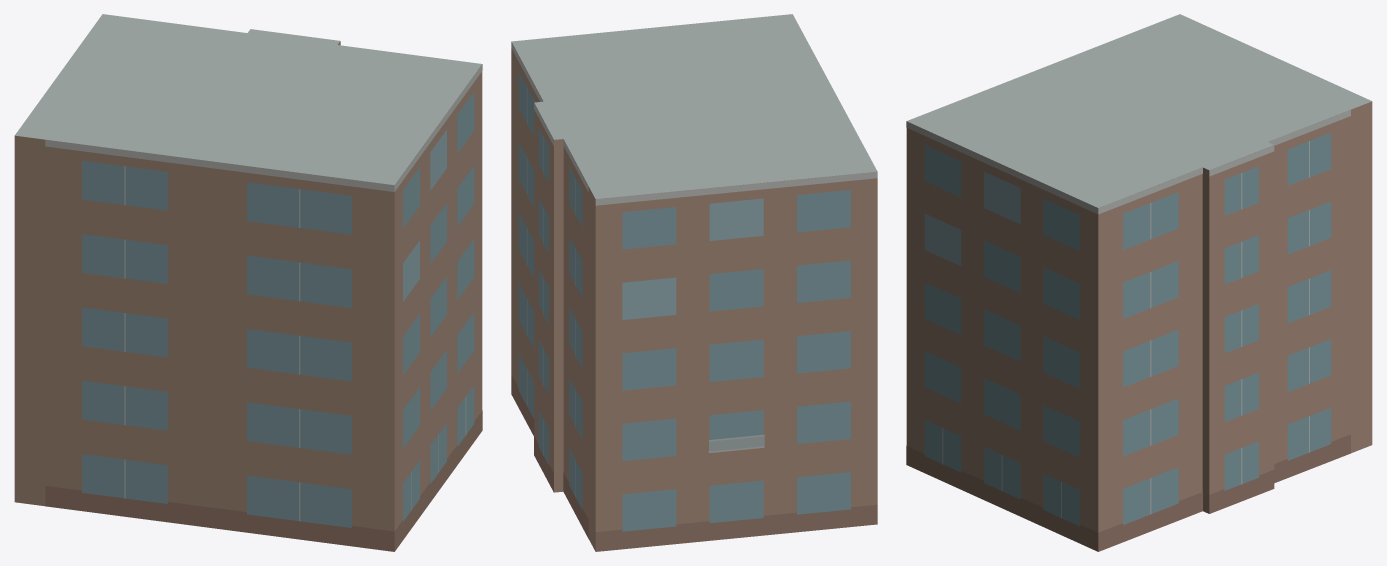
Rendered from survey-upis-32568526.glb.
The picture shows the model from 3 angles, left to right: view 1: azimuth 30°, elevation 25°; view 2: azimuth 150°, elevation 25°; view 3: azimuth 270°, elevation 25°; orthographic projection. The views are drawn at different scales.
Parts seen in each view (by area): view 1: survey-upis-32568526.tmp; view 2: survey-upis-32568526.tmp; view 3: survey-upis-32568526.tmp.
Part boxes in pixels (x1=…): survey-upis-32568526.tmp: x1=14, y1=14, x2=482, y2=551; survey-upis-32568526.tmp: x1=511, y1=14, x2=877, y2=551; survey-upis-32568526.tmp: x1=906, y1=14, x2=1372, y2=551.
Size of the model in its own units: 15.93 by 13.15 by 16.16.
